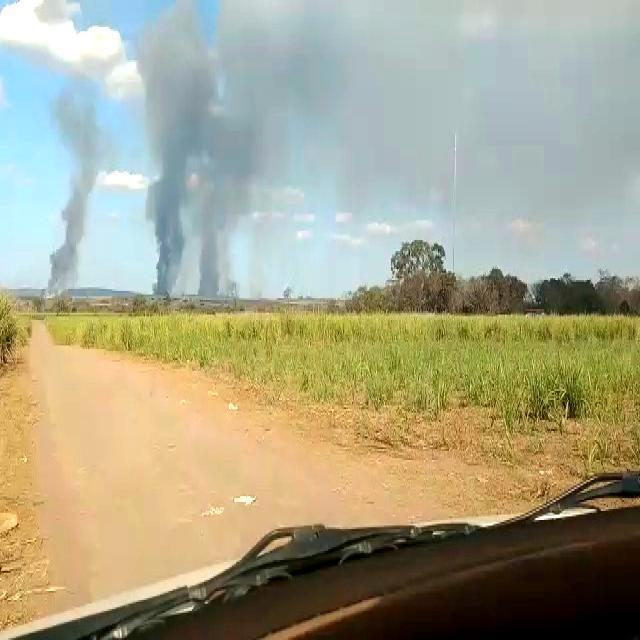Smoke: (302, 0, 640, 242), (151, 0, 303, 297), (45, 100, 112, 292)
